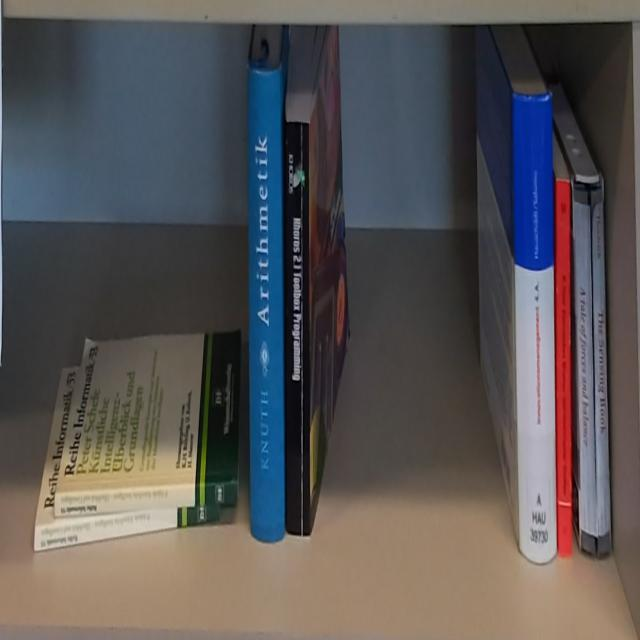Book Spine: (515, 81, 560, 570), (250, 66, 286, 547), (571, 180, 612, 563), (282, 124, 314, 538), (34, 506, 220, 555), (552, 171, 575, 558), (53, 479, 240, 517)
